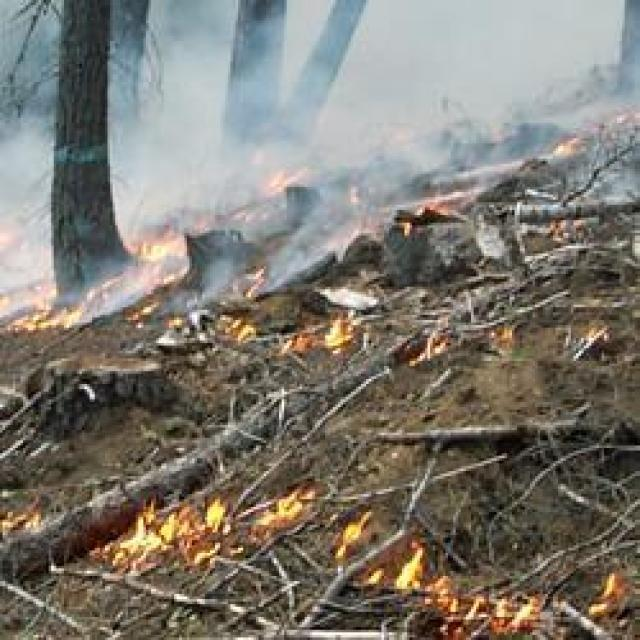Fire: (65, 474, 462, 581), (358, 551, 640, 640)
Smoke: (0, 0, 640, 295)
